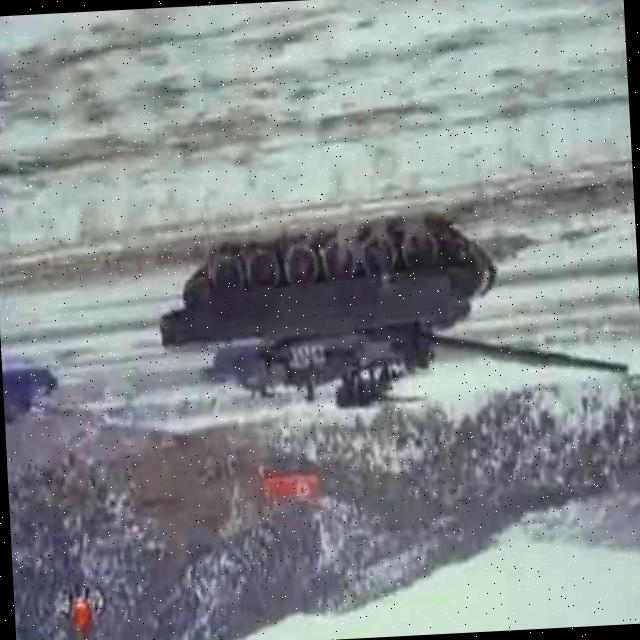north tank: (118, 187, 640, 461)
